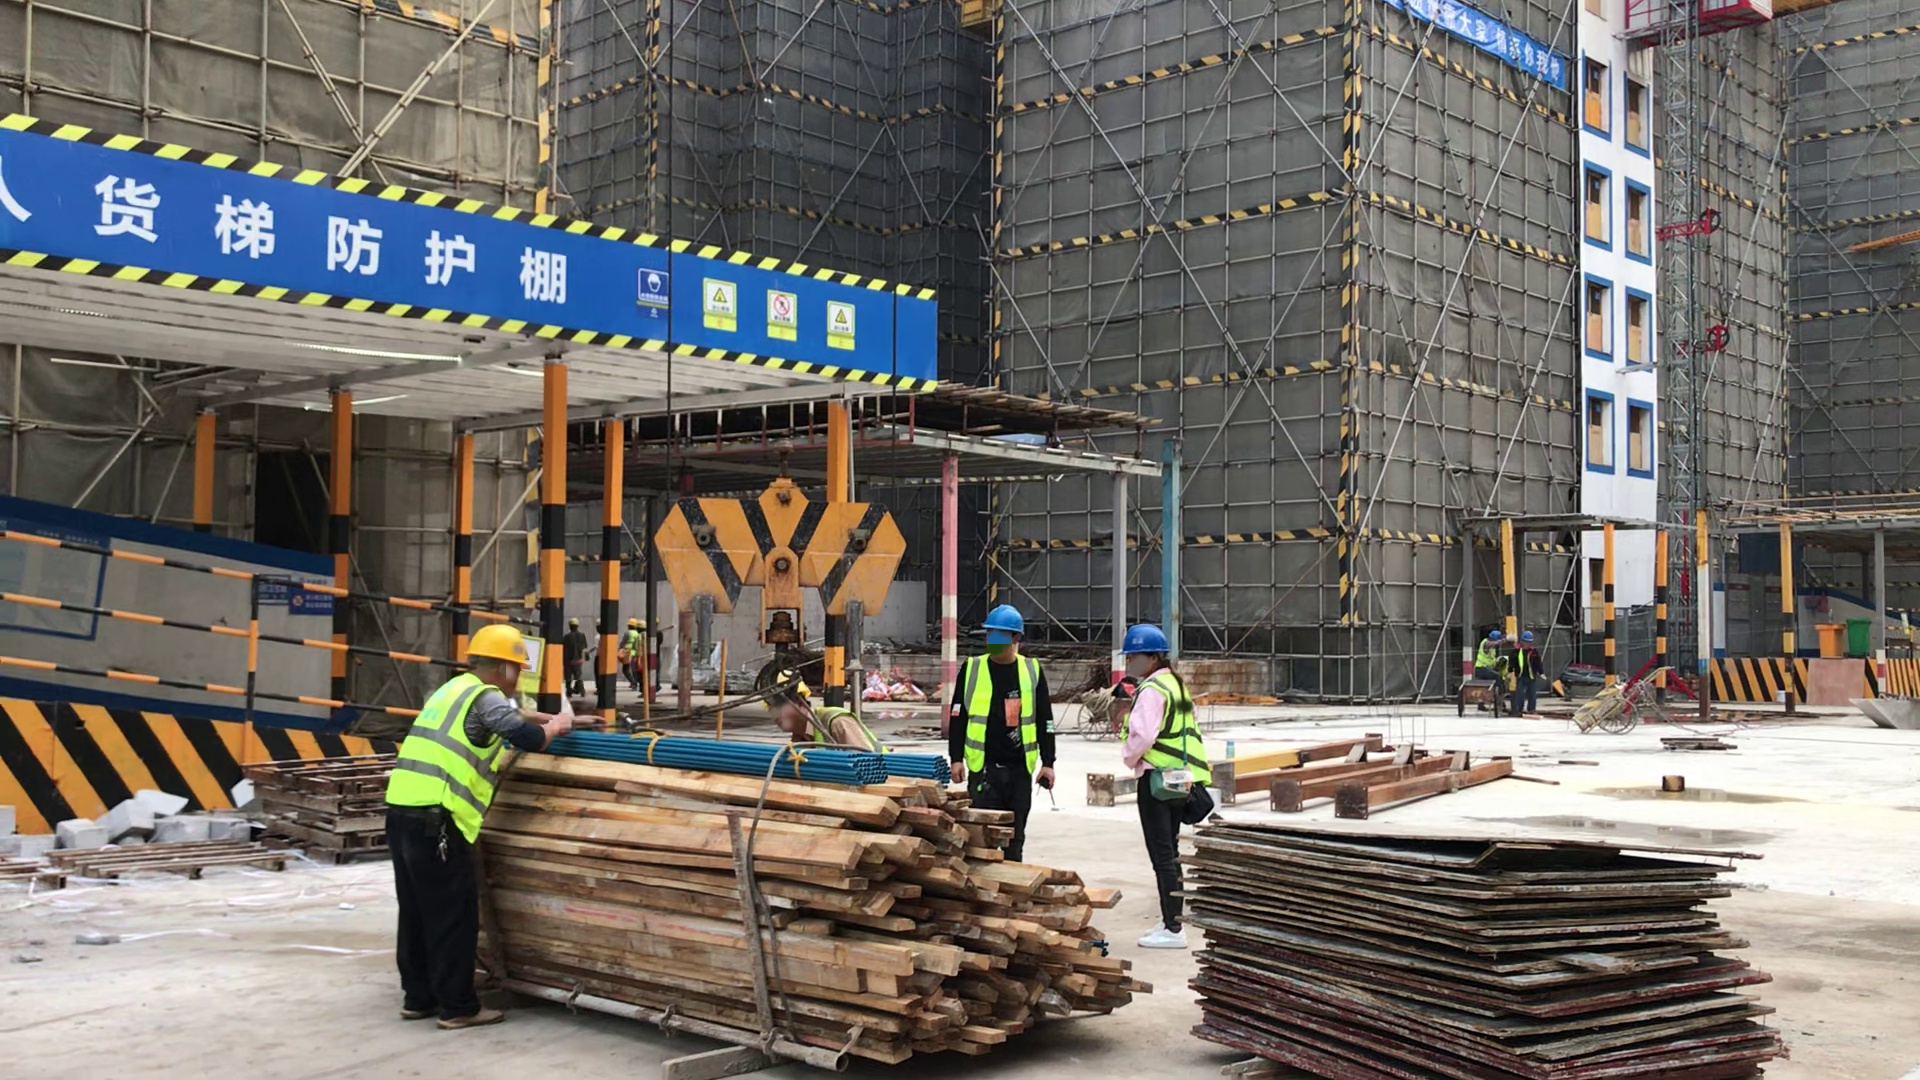helmet: (463, 623, 528, 673), (1120, 622, 1169, 656), (979, 603, 1025, 635), (1487, 629, 1502, 642), (1520, 630, 1534, 644), (567, 616, 581, 627), (633, 619, 645, 630), (623, 618, 636, 628), (594, 618, 603, 626)
person: (385, 606, 523, 1030), (1107, 622, 1235, 945), (945, 601, 1064, 862), (763, 667, 883, 761), (1511, 629, 1547, 716), (563, 615, 589, 700), (1471, 627, 1506, 686), (619, 615, 634, 688), (590, 614, 600, 696), (636, 618, 647, 679)
vest: (396, 669, 508, 843), (952, 646, 1049, 782), (1141, 679, 1208, 798), (810, 700, 881, 753), (1475, 639, 1496, 668), (625, 630, 636, 671)
